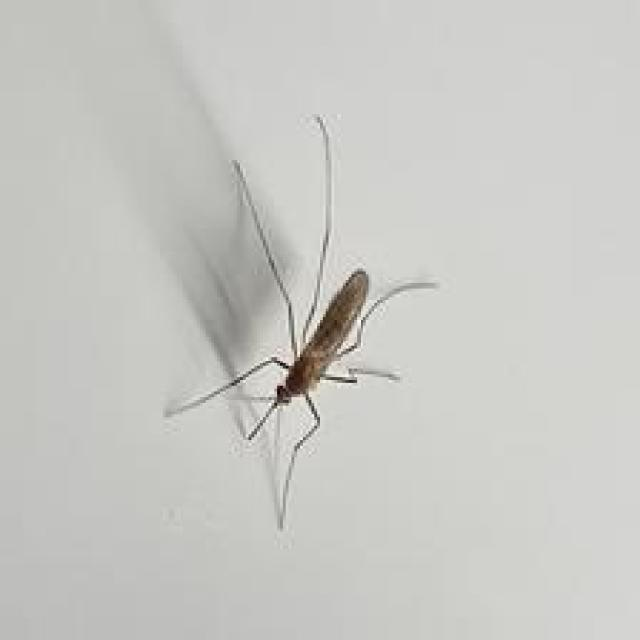Culex: (162, 111, 438, 532)
